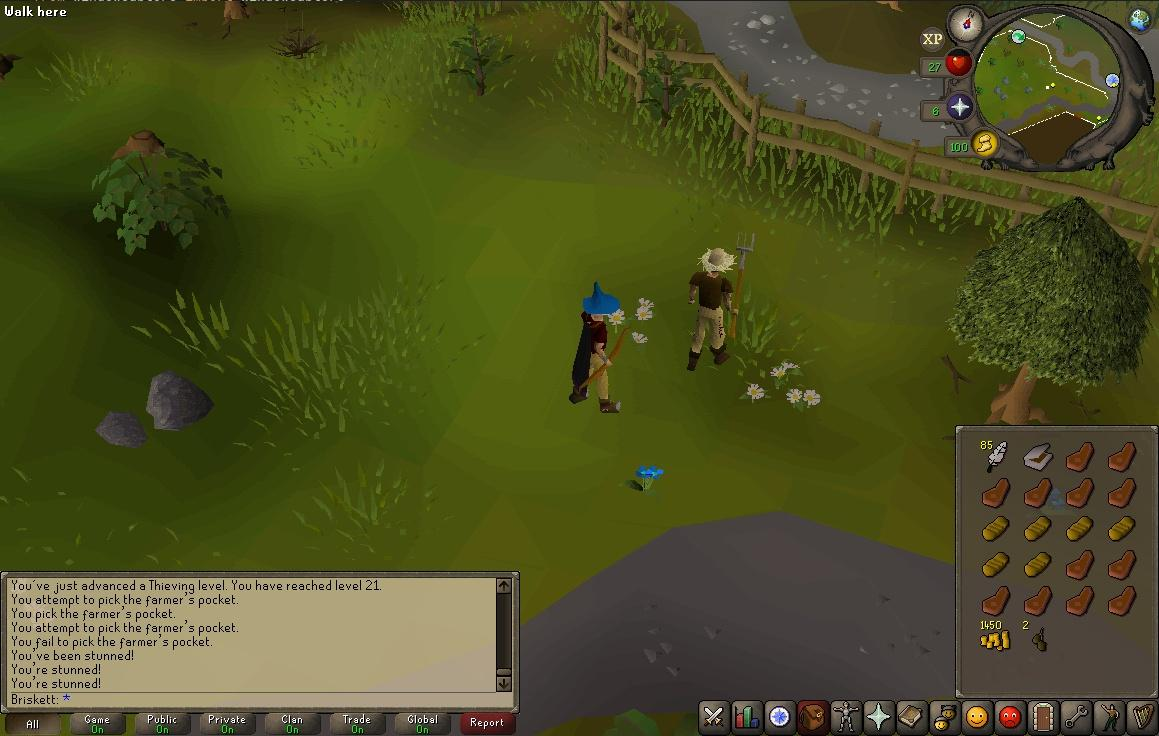Farmer: (686, 247, 739, 372)
